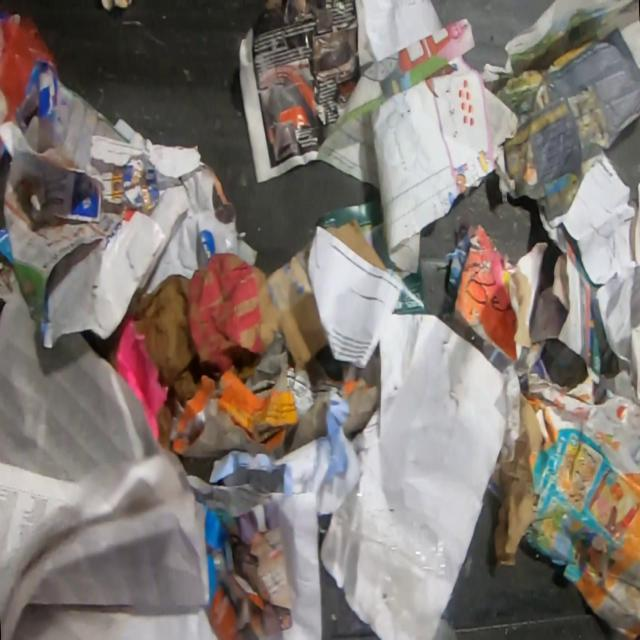cardboard: (520, 370, 640, 639), (88, 164, 260, 342), (451, 222, 549, 365), (492, 390, 544, 568), (263, 240, 329, 372), (324, 218, 388, 272)
soft_plastic: (337, 491, 451, 582), (0, 15, 59, 125)
